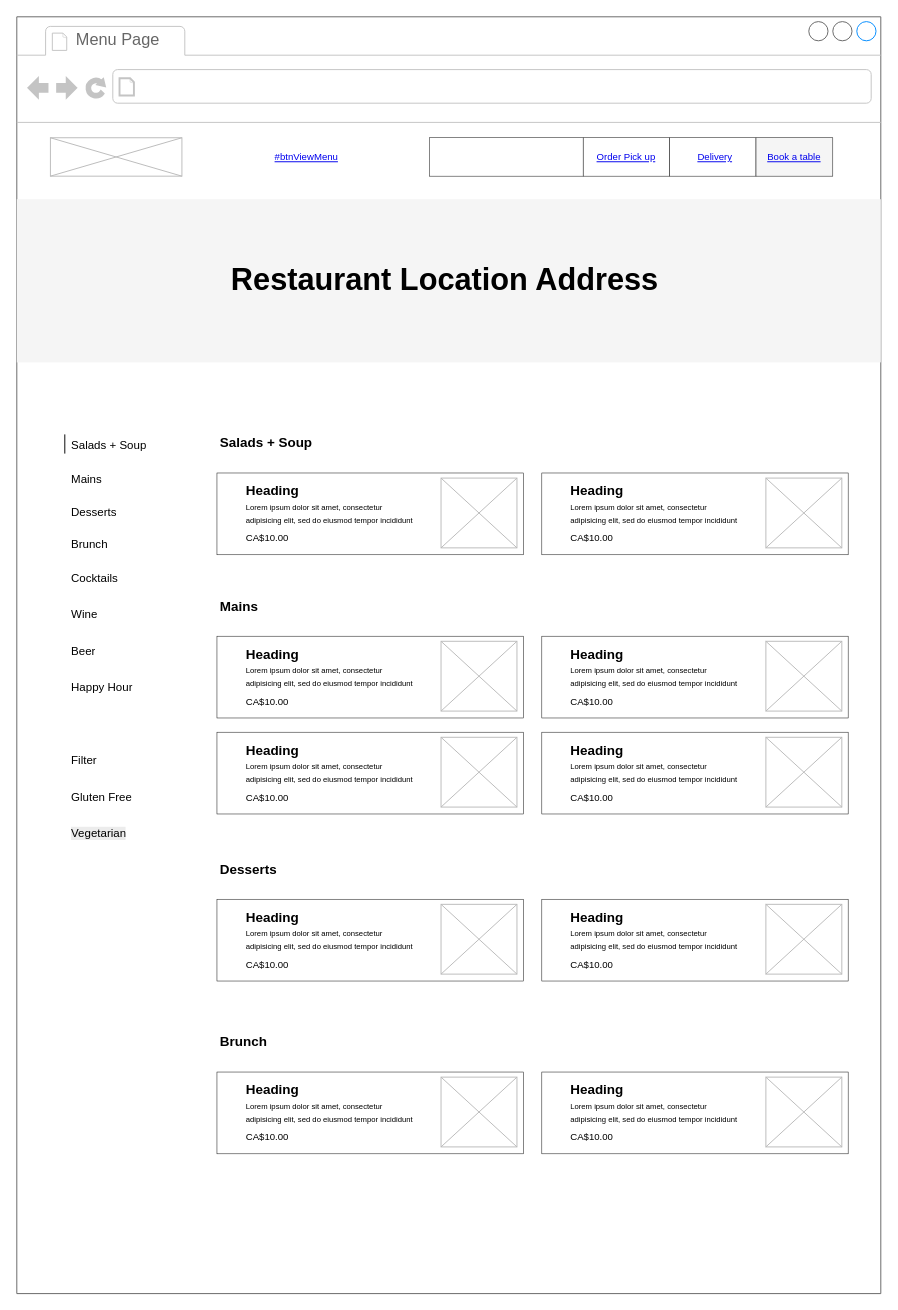
The diagram is 898 pixels wide and 1310 high, and some of its shapes have lost their labels. Here are the shapes that lost their labels. From the top down, the box of each, then its label:
(141, 73, 382, 99): https://nameofresturant.ca
(429, 137, 583, 176): Location address
